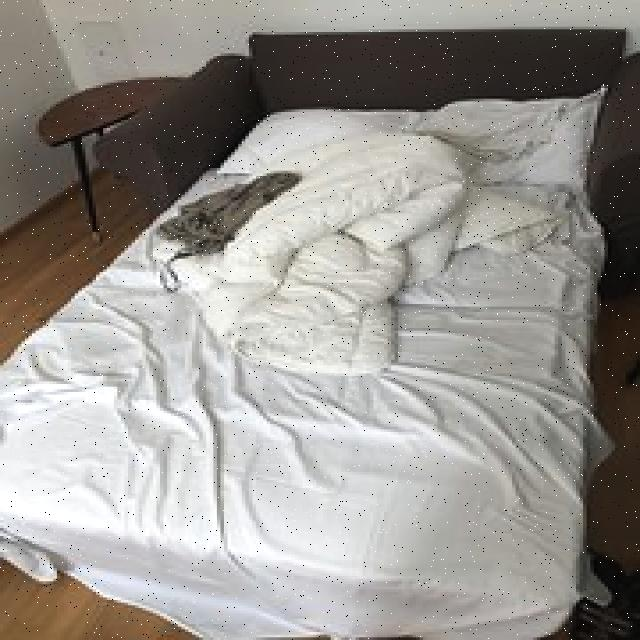bed: (0, 96, 619, 632)
